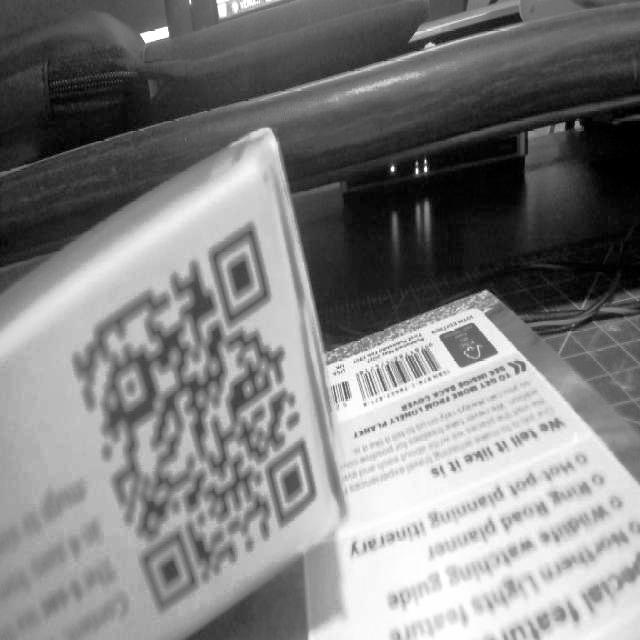qr_code: (61, 163, 337, 619)
